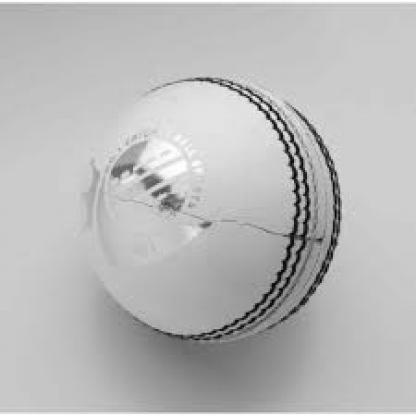bukan telur: (81, 75, 343, 343)
